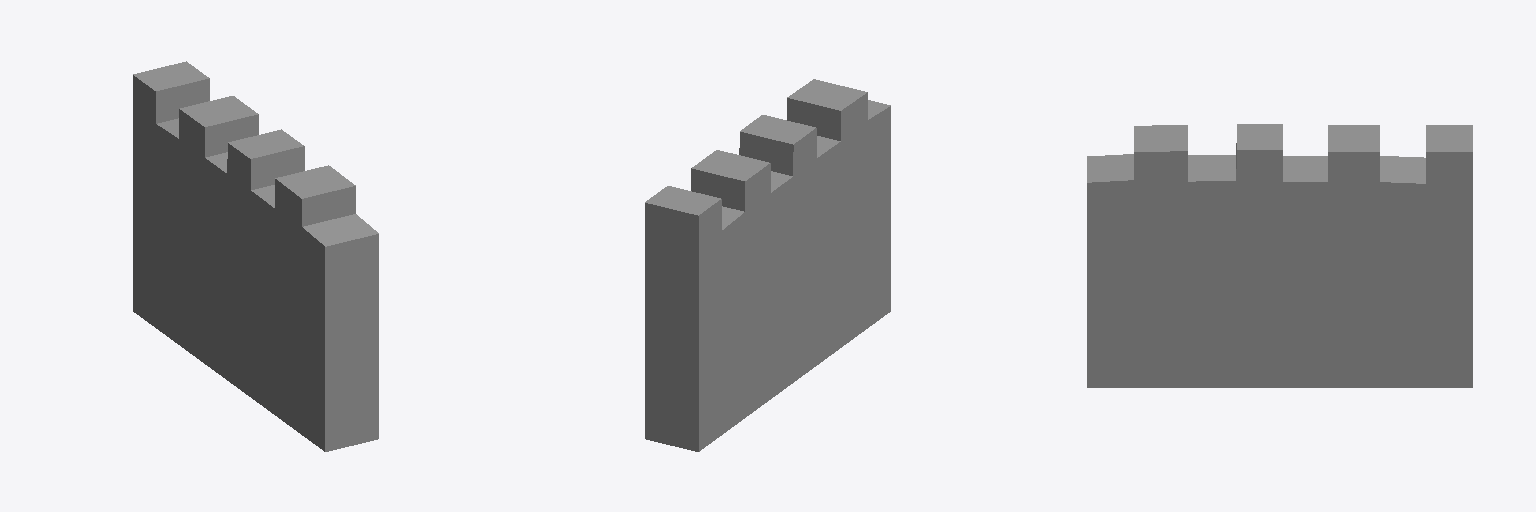
Rendered from outer_city_wall.obj.
The picture shows the model from 3 angles: view 1: azimuth 30°, elevation 25°; view 2: azimuth 150°, elevation 25°; view 3: azimuth 270°, elevation 25°; orthographic projection.
Visible parts, largest first — view 1: Cube; view 2: Cube; view 3: Cube.
Boxes of the visible parts, x1,y1,x2,y2 form: Cube: [133, 61, 378, 451]; Cube: [645, 79, 890, 451]; Cube: [1087, 124, 1472, 387].
Size of the model in its own units: 0.4771 by 2.01 by 2.96.